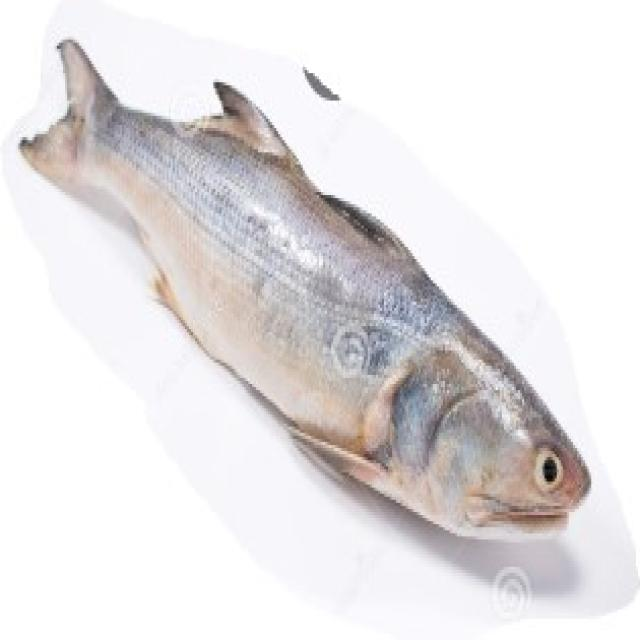Fourfinger-Threadfin: (19, 0, 605, 594)
